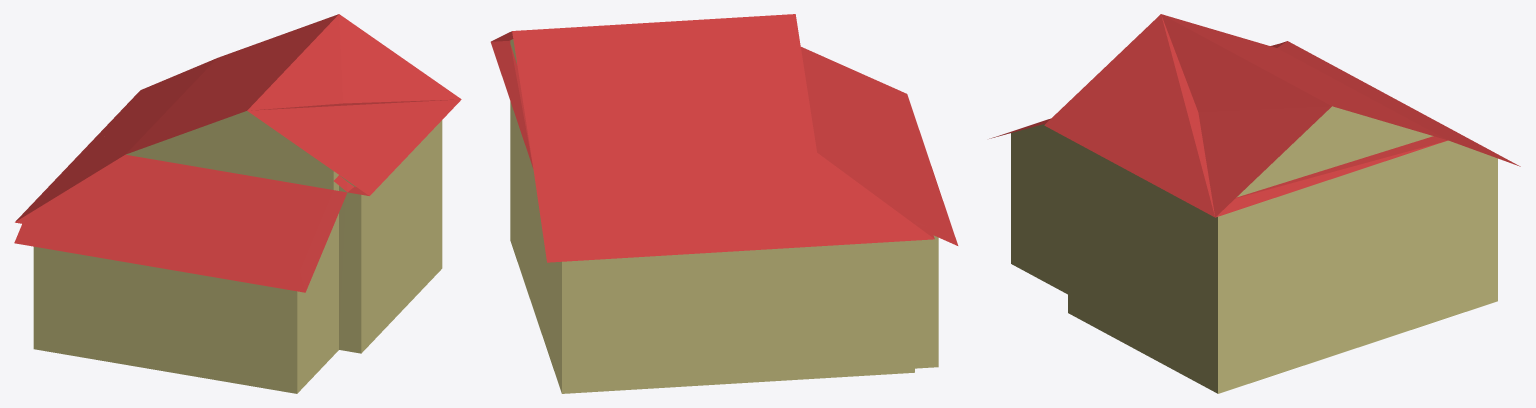
3 views of the same model, side by side, from view 1: azimuth 30°, elevation 25°; view 2: azimuth 150°, elevation 25°; view 3: azimuth 270°, elevation 25° (orthographic). The views are drawn at different scales.
Size of the model in its own units: 24.41 by 23.62 by 12.63.
